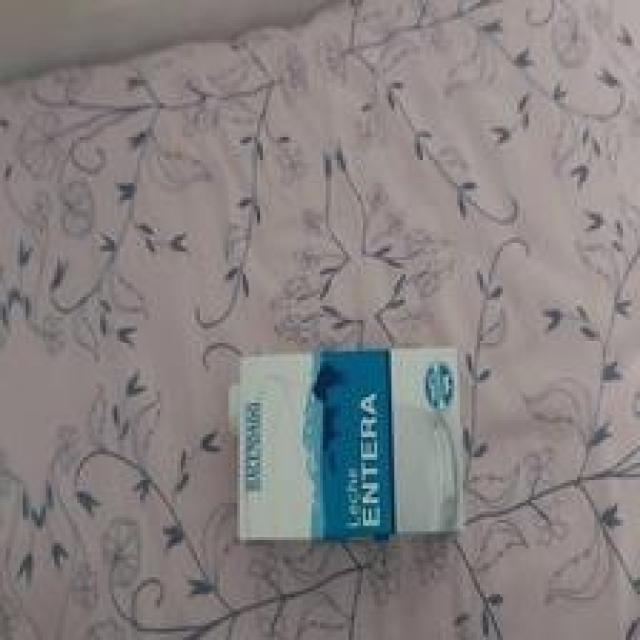Carton: (237, 347, 463, 542)
